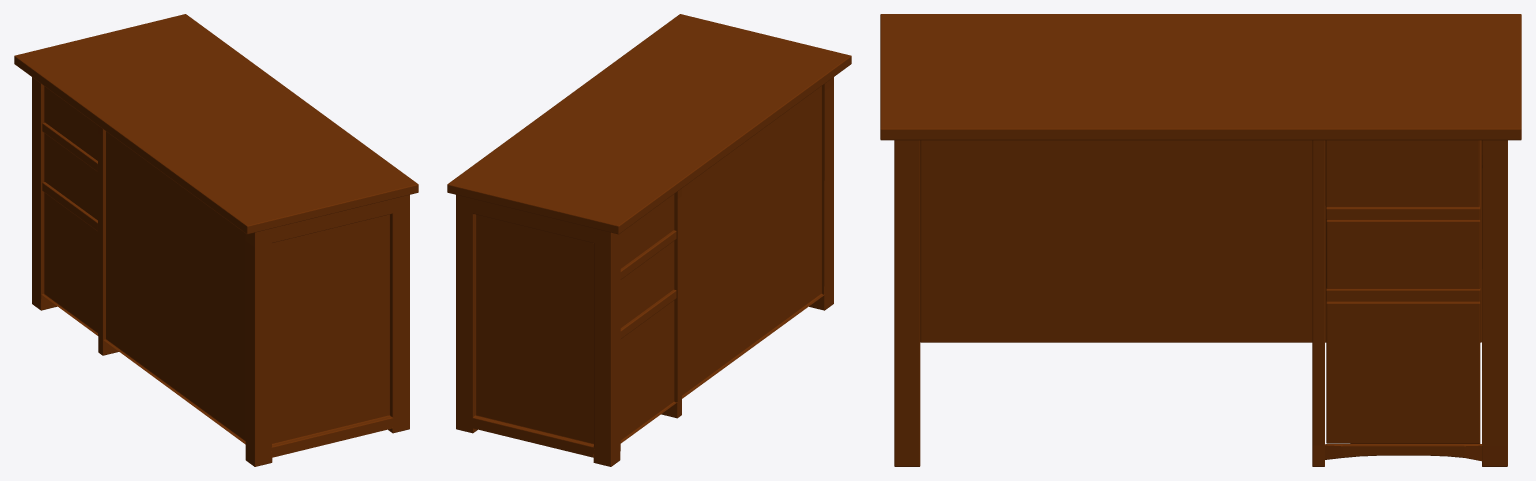
File: desk_v2.fbx
The picture shows the model from 3 angles, left to right: view 1: azimuth 30°, elevation 25°; view 2: azimuth 150°, elevation 25°; view 3: azimuth 270°, elevation 25°; orthographic projection. The views are drawn at different scales.
Visible parts, largest first — view 1: Desk; view 2: Desk; view 3: Desk.
Part boxes in pixels (x1=…): Desk: x1=14, y1=14, x2=418, y2=466; Desk: x1=447, y1=14, x2=851, y2=466; Desk: x1=880, y1=14, x2=1521, y2=466.
Size of the model in its own units: 53.32 by 73.47 by 125.
